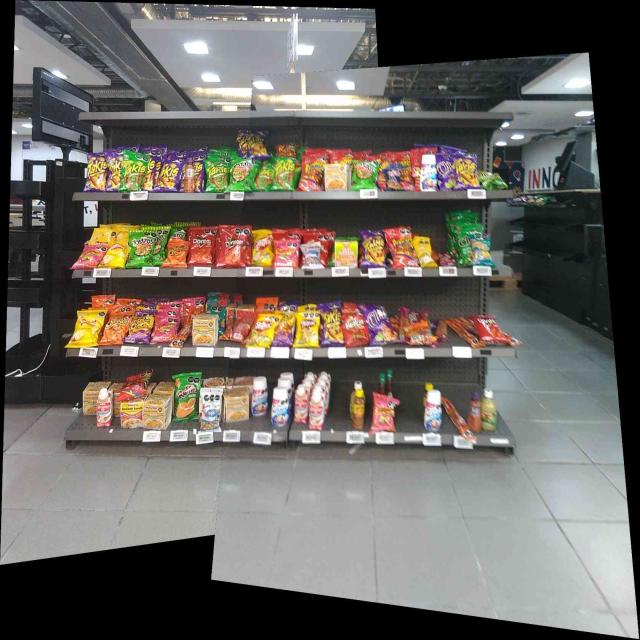bitzEnchilado95: (444, 398, 466, 432), (449, 320, 476, 344)
bitzHabanero: (399, 306, 408, 344), (435, 319, 447, 342)
bokadosCacahuates: (387, 166, 401, 190)
botaneraChilito: (353, 390, 365, 429)
cheetosFlaminHot: (276, 307, 294, 345), (131, 314, 149, 342)
cheetosOriginal: (107, 313, 124, 343), (167, 242, 187, 266)
chipsFuego: (367, 305, 393, 344), (438, 154, 455, 189)
chipsJalapeno: (459, 232, 472, 266)
chipsPapatinas: (479, 171, 503, 189)
churrumais: (372, 394, 393, 430), (276, 242, 298, 268), (154, 314, 175, 340), (80, 245, 103, 268)
delPrimoSalsa: (481, 388, 497, 430)
doritosNacho: (222, 229, 243, 266), (192, 231, 212, 263), (478, 316, 502, 341)
fritosLimon: (296, 312, 319, 346), (253, 230, 273, 266), (252, 316, 273, 345)
leoCacahuates: (201, 389, 220, 431), (302, 244, 321, 268)
maruchanPollo: (145, 395, 170, 428), (225, 391, 249, 420), (193, 316, 216, 346), (325, 163, 349, 191), (83, 382, 96, 414)
maruchanRes: (120, 403, 142, 428)
nestleCarnation: (309, 394, 324, 430), (97, 391, 112, 426), (294, 387, 308, 423)
nestleLechera: (424, 391, 442, 431), (271, 386, 289, 426), (252, 376, 268, 416), (420, 154, 436, 191)
nissinCamaron: (334, 239, 358, 267)
productoAtras: (228, 314, 250, 341), (410, 324, 431, 343)
rancheritos: (344, 314, 365, 344)
rufflesQueso: (175, 376, 198, 420)
runners: (390, 228, 415, 266), (300, 157, 322, 191), (125, 374, 146, 394)
sabritasOriginal: (75, 312, 98, 346), (106, 242, 127, 268)
semillasCalabaza: (418, 237, 432, 266)
semillasGirasol: (472, 237, 490, 265)
tajinDulce: (184, 157, 195, 193), (469, 392, 480, 427)
takisFuego: (320, 304, 340, 347), (362, 231, 384, 266), (86, 153, 106, 191), (457, 152, 477, 188), (158, 160, 178, 191), (241, 130, 264, 156), (108, 153, 121, 191)
takisOriginal: (123, 150, 143, 192), (273, 157, 293, 190), (207, 159, 227, 191), (255, 166, 271, 191)
tostitos: (130, 232, 153, 266), (353, 160, 376, 189), (231, 159, 251, 190)
